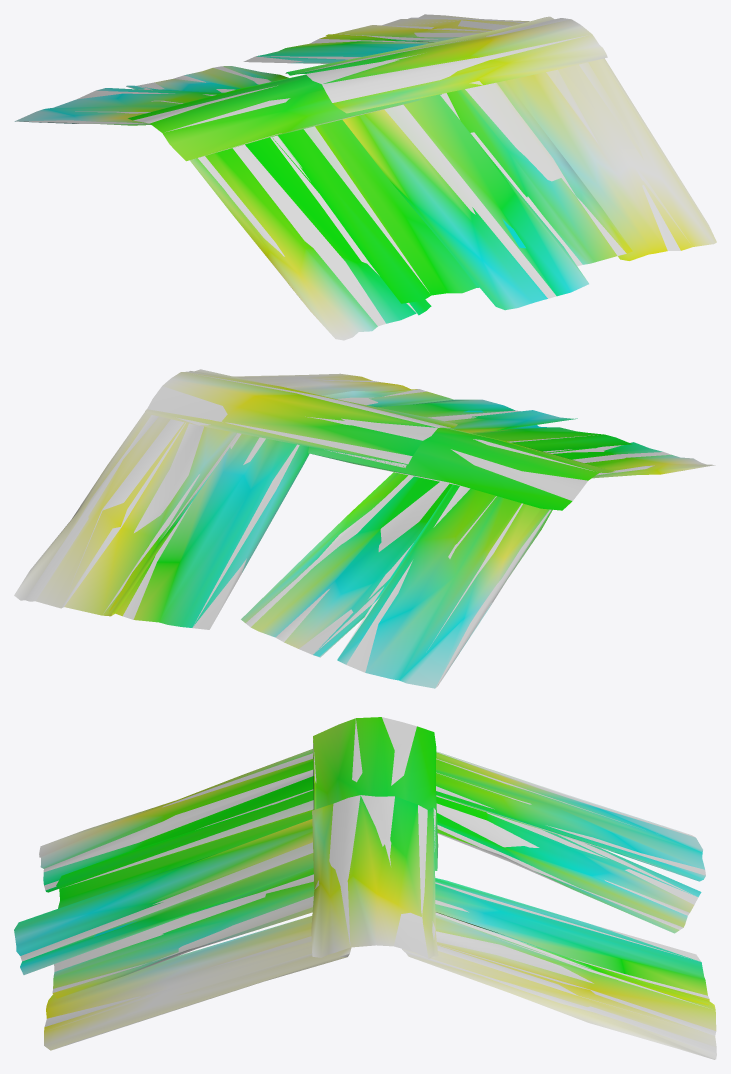
The model's file is SM_MillRoof_NN_01a.FBX.
3 views of the same model, one above another, from view 1: azimuth 30°, elevation 25°; view 2: azimuth 150°, elevation 25°; view 3: azimuth 270°, elevation 25° (orthographic). The views are drawn at different scales.
Parts seen in each view (by area): view 1: SM_MillRoof_NN_01a_LOD0; view 2: SM_MillRoof_NN_01a_LOD0; view 3: SM_MillRoof_NN_01a_LOD0.
Boxes of the visible parts, <box> form: SM_MillRoof_NN_01a_LOD0: <box>14,14,716,340</box>; SM_MillRoof_NN_01a_LOD0: <box>14,369,715,688</box>; SM_MillRoof_NN_01a_LOD0: <box>14,717,716,1059</box>.
Size of what is drawn, in the model's own units: 509 by 665 by 133.
